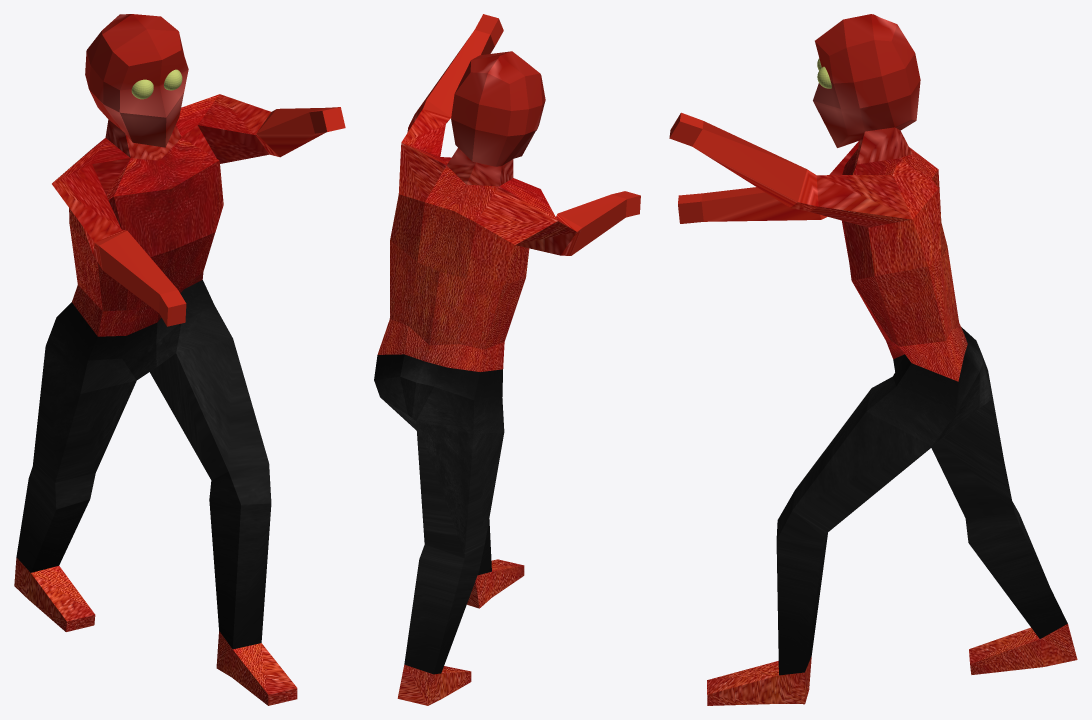
The model's file is laySheary_000018.obj.
3 views of the same model, side by side, from view 1: azimuth 30°, elevation 25°; view 2: azimuth 150°, elevation 25°; view 3: azimuth 270°, elevation 25° (orthographic). The views are drawn at different scales.
Visible parts, largest first — view 1: Cube; view 2: Cube; view 3: Cube.
Part boxes in pixels (x1,y1,x2,y2): Cube: [14, 14, 345, 705]; Cube: [374, 14, 640, 705]; Cube: [669, 14, 1077, 705].
Bounding box in the file's own units: 5.16 × 15.83 × 8.93.
Materials: 3 (2 with a texture image).
